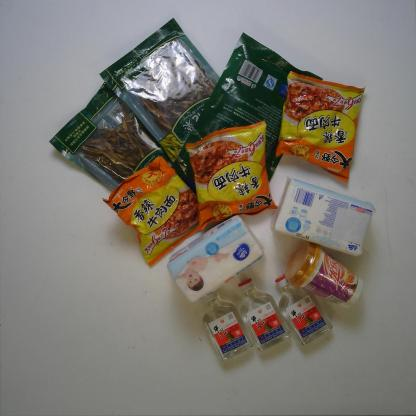Alcohol: (268, 270, 334, 346), (234, 275, 293, 356), (200, 287, 254, 363)
Dried Food: (175, 28, 323, 205), (98, 17, 223, 171), (46, 81, 181, 194)
Instant Drink: (284, 237, 368, 307)
Instant Noodles: (101, 158, 205, 270), (277, 62, 368, 184), (184, 118, 280, 233)
Tissue: (271, 173, 378, 261), (165, 215, 266, 308)
